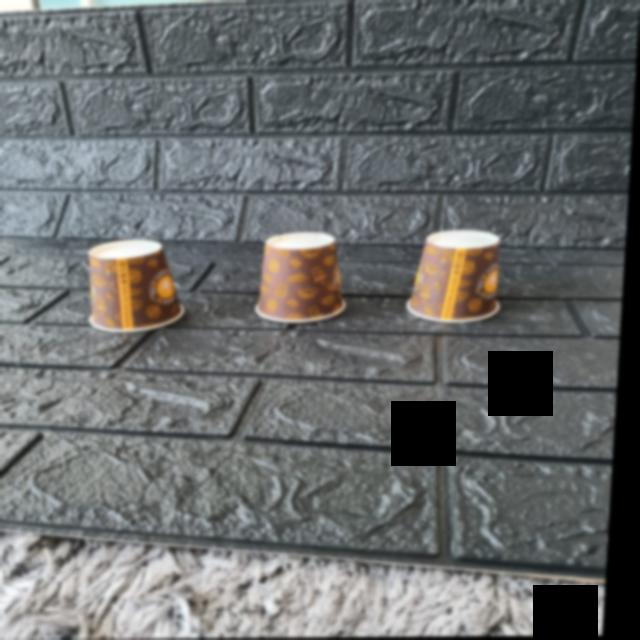cups: (70, 239, 195, 333), (412, 229, 517, 325), (259, 234, 359, 322)
